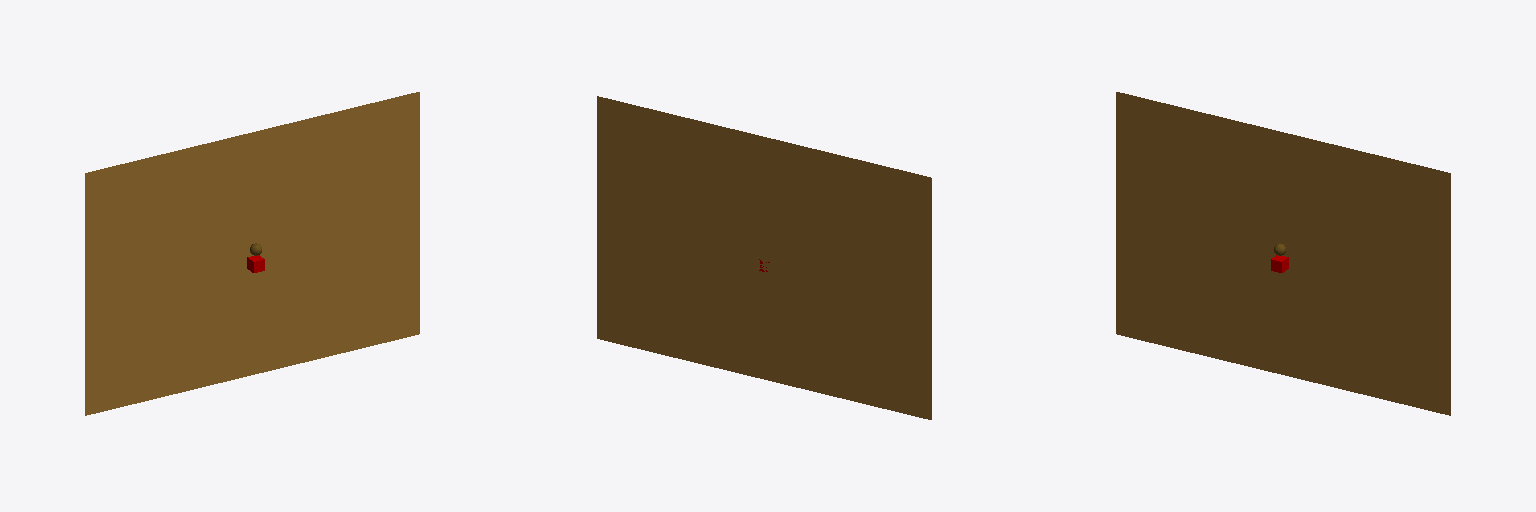
File: cajaEsfera2.obj
3 views of the same model, side by side, from view 1: azimuth 30°, elevation 25°; view 2: azimuth 150°, elevation 25°; view 3: azimuth 330°, elevation 25° (orthographic).
Parts seen in each view (by area): view 1: Plane01; view 2: Plane01; view 3: Plane01.
Boxes of the visible parts, box(x1,y1,x2,y2) form: Plane01: box(85, 92, 419, 415); Plane01: box(597, 96, 931, 419); Plane01: box(1116, 92, 1450, 415).
Size of the model in its own units: 3039 by 2104 by 100.